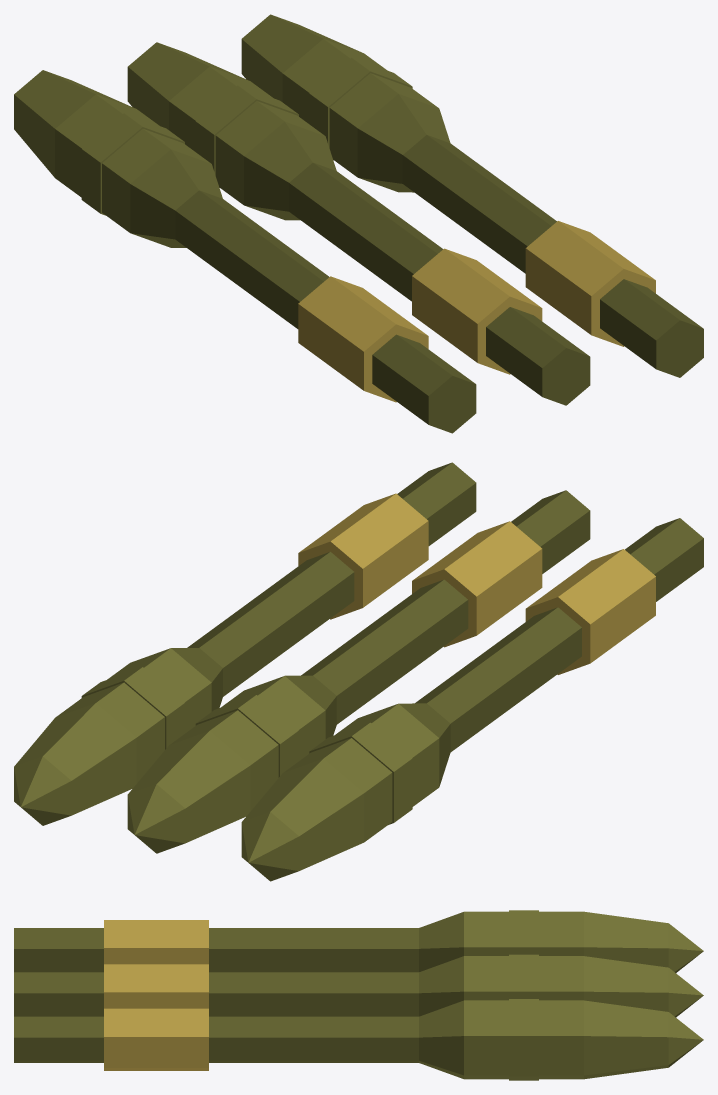
The model's file is ce_ammo2_spg9_heat_b.obj.
3 views of the same model, one above another, from view 1: azimuth 30°, elevation 25°; view 2: azimuth 150°, elevation 25°; view 3: azimuth 270°, elevation 25° (orthographic). The views are drawn at different scales.
Parts seen in each view (by area): view 1: ce_ammo2_spg9_heat_b_20, ce_ammo2_spg9_heat_b_2, ce_ammo2_spg9_heat_b_11, ce_ammo2_spg9_heat_b_1, ce_ammo2_spg9_heat_b_19, ce_ammo2_spg9_heat_b_10, ce_ammo2_spg9_heat_b_0, ce_ammo2_spg9_heat_b_9, ce_ammo2_spg9_heat_b_18, ce_ammo2_spg9_heat_b_21, ce_ammo2_spg9_heat_b_3, ce_ammo2_spg9_heat_b_12 (+12 smaller); view 2: ce_ammo2_spg9_heat_b_11, ce_ammo2_spg9_heat_b_2, ce_ammo2_spg9_heat_b_20, ce_ammo2_spg9_heat_b_19, ce_ammo2_spg9_heat_b_10, ce_ammo2_spg9_heat_b_1, ce_ammo2_spg9_heat_b_7, ce_ammo2_spg9_heat_b_16, ce_ammo2_spg9_heat_b_25, ce_ammo2_spg9_heat_b_6, ce_ammo2_spg9_heat_b_18, ce_ammo2_spg9_heat_b_9 (+15 smaller); view 3: ce_ammo2_spg9_heat_b_20, ce_ammo2_spg9_heat_b_2, ce_ammo2_spg9_heat_b_11, ce_ammo2_spg9_heat_b_19, ce_ammo2_spg9_heat_b_25, ce_ammo2_spg9_heat_b_1, ce_ammo2_spg9_heat_b_10, ce_ammo2_spg9_heat_b_18, ce_ammo2_spg9_heat_b_0, ce_ammo2_spg9_heat_b_9, ce_ammo2_spg9_heat_b_7, ce_ammo2_spg9_heat_b_16 (+15 smaller).
Part boxes in pixels (x1,y1,x2,y2): ce_ammo2_spg9_heat_b_20: [402, 135, 556, 273]; ce_ammo2_spg9_heat_b_2: [175, 190, 328, 328]; ce_ammo2_spg9_heat_b_11: [289, 162, 442, 301]; ce_ammo2_spg9_heat_b_1: [298, 276, 428, 402]; ce_ammo2_spg9_heat_b_19: [525, 221, 655, 346]; ce_ammo2_spg9_heat_b_10: [412, 248, 542, 374]; ce_ammo2_spg9_heat_b_0: [372, 334, 476, 433]; ce_ammo2_spg9_heat_b_9: [486, 307, 590, 405]; ce_ammo2_spg9_heat_b_18: [600, 279, 703, 377]; ce_ammo2_spg9_heat_b_21: [357, 94, 450, 192]; ce_ammo2_spg9_heat_b_3: [130, 149, 222, 247]; ce_ammo2_spg9_heat_b_12: [244, 121, 336, 220]; ce_ammo2_spg9_heat_b_11: [301, 579, 468, 724]; ce_ammo2_spg9_heat_b_2: [415, 607, 581, 751]; ce_ammo2_spg9_heat_b_20: [187, 552, 354, 696]; ce_ammo2_spg9_heat_b_19: [298, 493, 428, 619]; ce_ammo2_spg9_heat_b_10: [412, 521, 542, 647]; ce_ammo2_spg9_heat_b_1: [525, 549, 655, 674]; ce_ammo2_spg9_heat_b_7: [242, 758, 364, 870]; ce_ammo2_spg9_heat_b_16: [128, 731, 250, 843]; ce_ammo2_spg9_heat_b_25: [14, 703, 136, 815]; ce_ammo2_spg9_heat_b_6: [283, 738, 392, 841]; ce_ammo2_spg9_heat_b_18: [397, 462, 476, 545]; ce_ammo2_spg9_heat_b_9: [511, 490, 590, 573]; ce_ammo2_spg9_heat_b_20: [209, 1016, 418, 1062]; ce_ammo2_spg9_heat_b_2: [209, 928, 418, 972]; ce_ammo2_spg9_heat_b_11: [209, 972, 418, 1016]; ce_ammo2_spg9_heat_b_19: [104, 1008, 208, 1070]; ce_ammo2_spg9_heat_b_25: [584, 1000, 668, 1079]; ce_ammo2_spg9_heat_b_1: [104, 920, 208, 964]; ce_ammo2_spg9_heat_b_10: [104, 964, 208, 1008]; ce_ammo2_spg9_heat_b_18: [14, 1016, 103, 1062]; ce_ammo2_spg9_heat_b_0: [14, 928, 103, 972]; ce_ammo2_spg9_heat_b_9: [14, 972, 103, 1016]; ce_ammo2_spg9_heat_b_7: [584, 911, 668, 967]; ce_ammo2_spg9_heat_b_16: [584, 956, 668, 1011].
Bounding box in the file's own units: 0.384 × 0.12 × 0.92.
